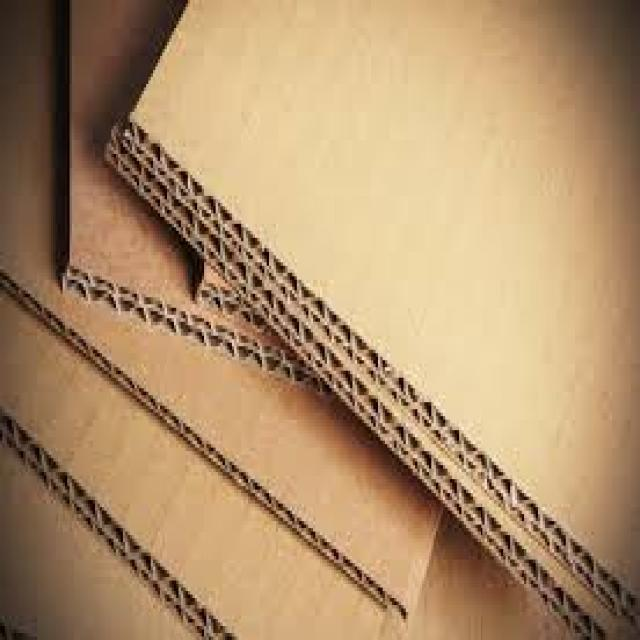Cardboard: (102, 0, 640, 640), (62, 0, 320, 390)
